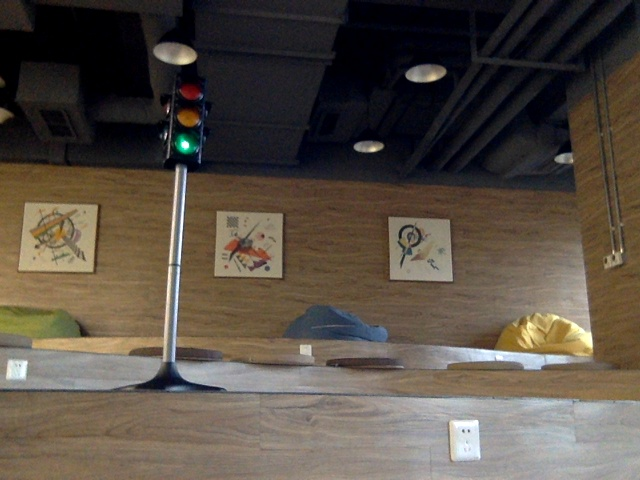green: (171, 82, 198, 158)
